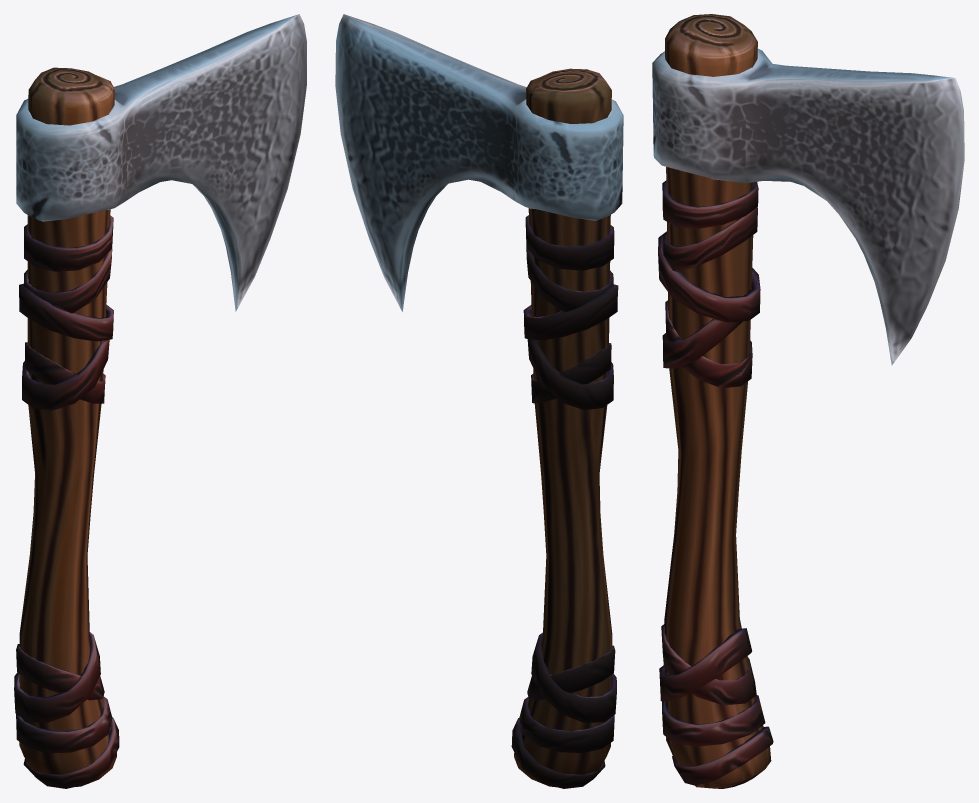
Rendered from CastawayAxe.fbx.
The picture shows the model from 3 angles, left to right: view 1: azimuth 30°, elevation 25°; view 2: azimuth 150°, elevation 25°; view 3: azimuth 330°, elevation 25°; orthographic projection. The views are drawn at different scales.
Parts seen in each view (by area): view 1: Object_2; view 2: Object_2; view 3: Object_2.
Part boxes in pixels (x1,y1,x2,y2): Object_2: (14, 14, 306, 788); Object_2: (335, 14, 623, 788); Object_2: (652, 14, 964, 788).
Bounding box in the file's own units: 24.87 × 60 × 8.14.
1 material, 1 textured.
